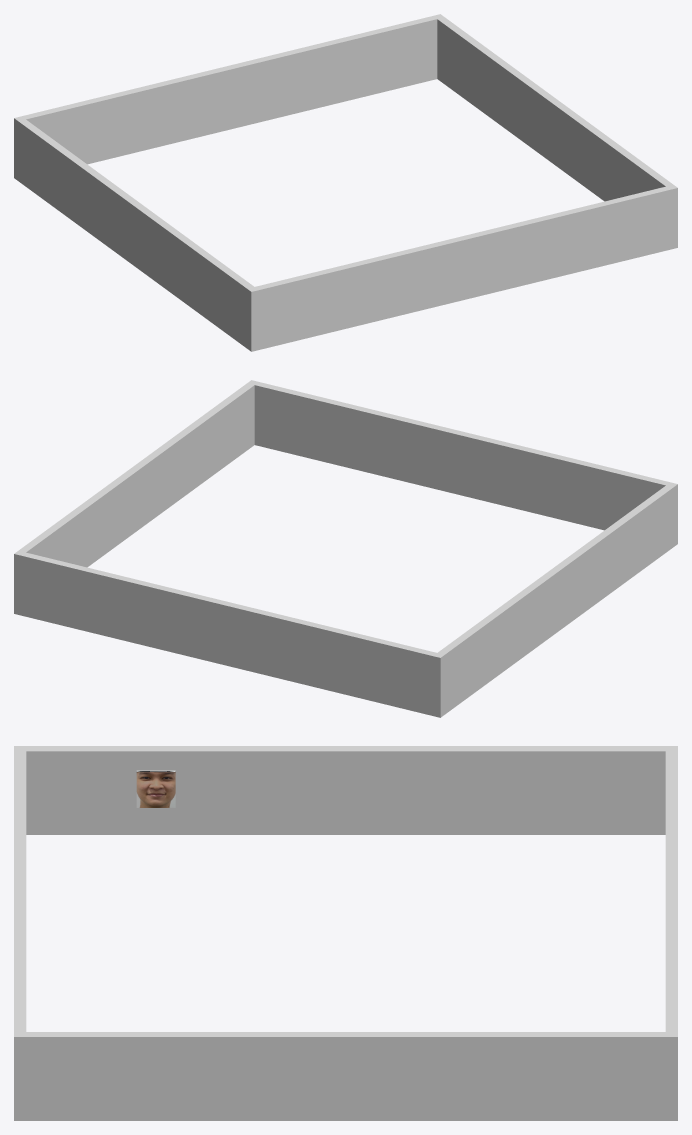
File: demo.glb
3 views of the same model, one above another, from view 1: azimuth 30°, elevation 25°; view 2: azimuth 150°, elevation 25°; view 3: azimuth 270°, elevation 25° (orthographic). The views are drawn at different scales.
Visible parts, largest first — view 1: Cube.002, Cube.001, Cube, Cube.003; view 2: Cube.001, Cube.002, Cube, Cube.003; view 3: Cube.003, Cube, Cube.001, Cube.002, image.
Part boxes in pixels (x1,y1,x2,y2): Cube.002: (255, 186, 670, 349); Cube.001: (22, 16, 437, 164); Cube: (14, 116, 258, 351); Cube.003: (433, 14, 677, 249); Cube.001: (21, 552, 436, 715); Cube.002: (254, 382, 669, 530); Cube: (433, 482, 677, 717); Cube.003: (14, 380, 258, 615); Cube.003: (14, 1032, 677, 1120); Cube: (14, 746, 677, 834); Cube.001: (665, 751, 677, 1031); Cube.002: (14, 751, 26, 1031); image: (136, 770, 175, 807).
Size of the model in its own units: 21.58 by 2.9 by 20.81.
5 materials, 1 textured.
